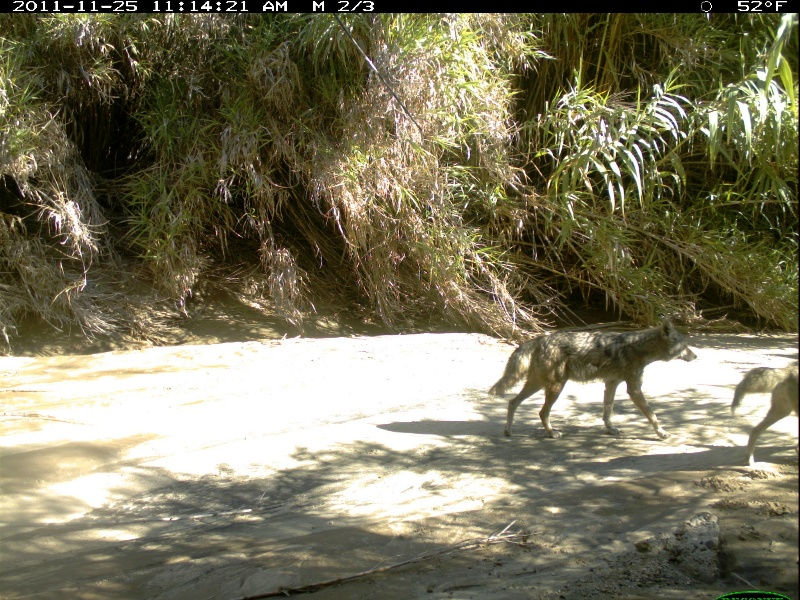coyote: (484, 317, 700, 447), (725, 360, 800, 470)
